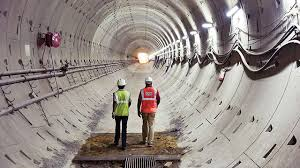arm: (135, 89, 143, 117), (109, 92, 117, 119), (154, 88, 161, 109)
footwear: (144, 139, 155, 148), (118, 142, 128, 150), (137, 138, 147, 145)
glove: (136, 109, 142, 117), (110, 111, 115, 119)
helmet: (141, 75, 155, 87), (115, 77, 127, 87)
human: (136, 74, 160, 147), (109, 75, 132, 149)
leg: (144, 113, 156, 148), (118, 115, 129, 151)
vest: (139, 86, 157, 113), (113, 89, 129, 116)
